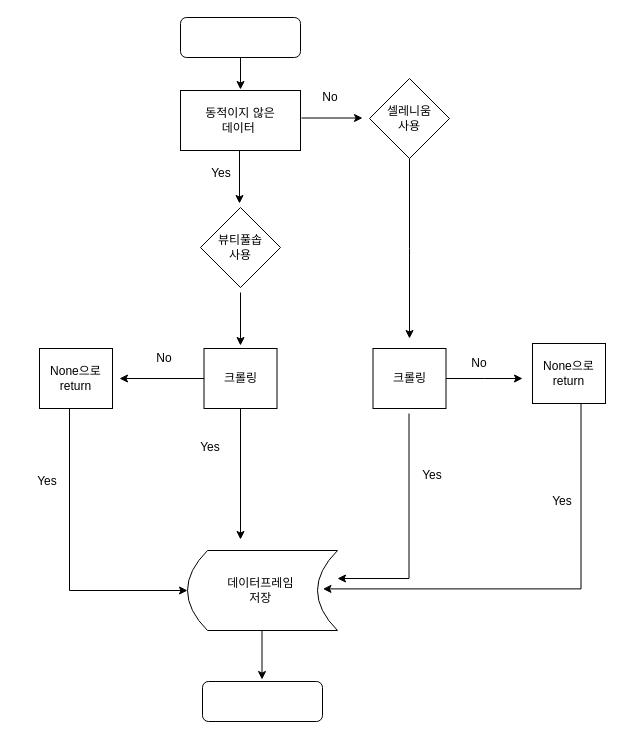
The diagram is 623 pixels wide and 739 high, and some of its shapes have lost their labels. The box of each missing label's shape, as (x1, y1, x2, y2) in pixels:
url 입력: (180, 16, 300, 58)
종료: (202, 680, 322, 722)
